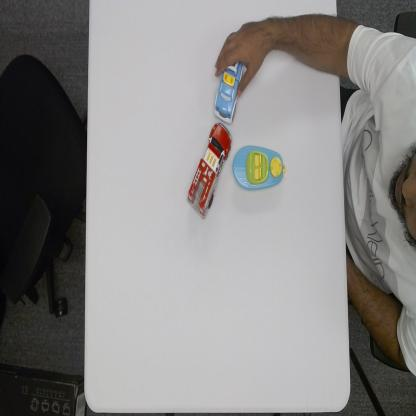Arm: (269, 12, 340, 77)
Boat: (232, 142, 287, 192)
Car: (214, 60, 246, 123)
Firetruck: (186, 120, 232, 222)
Hand: (212, 18, 270, 97)
